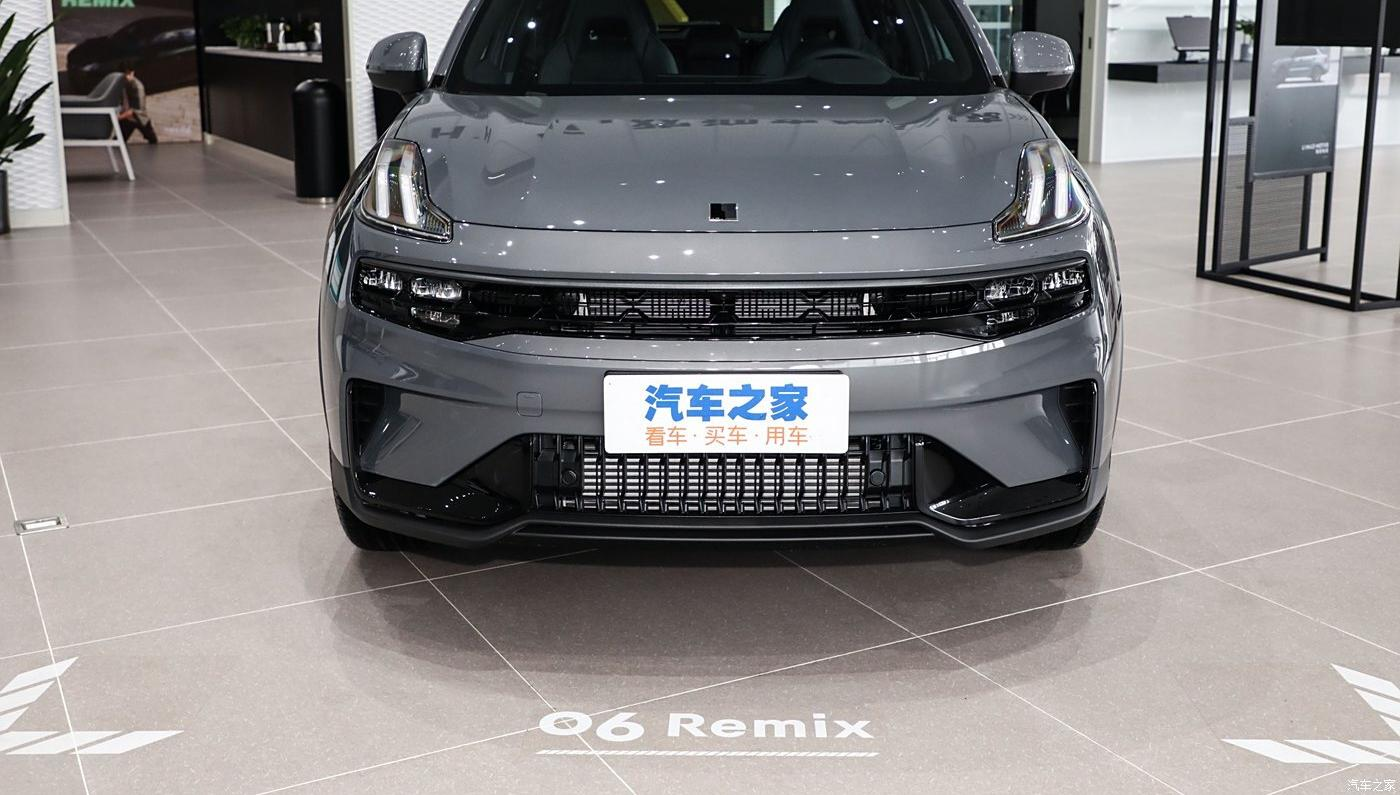LINK&CO: (710, 203, 736, 220)
